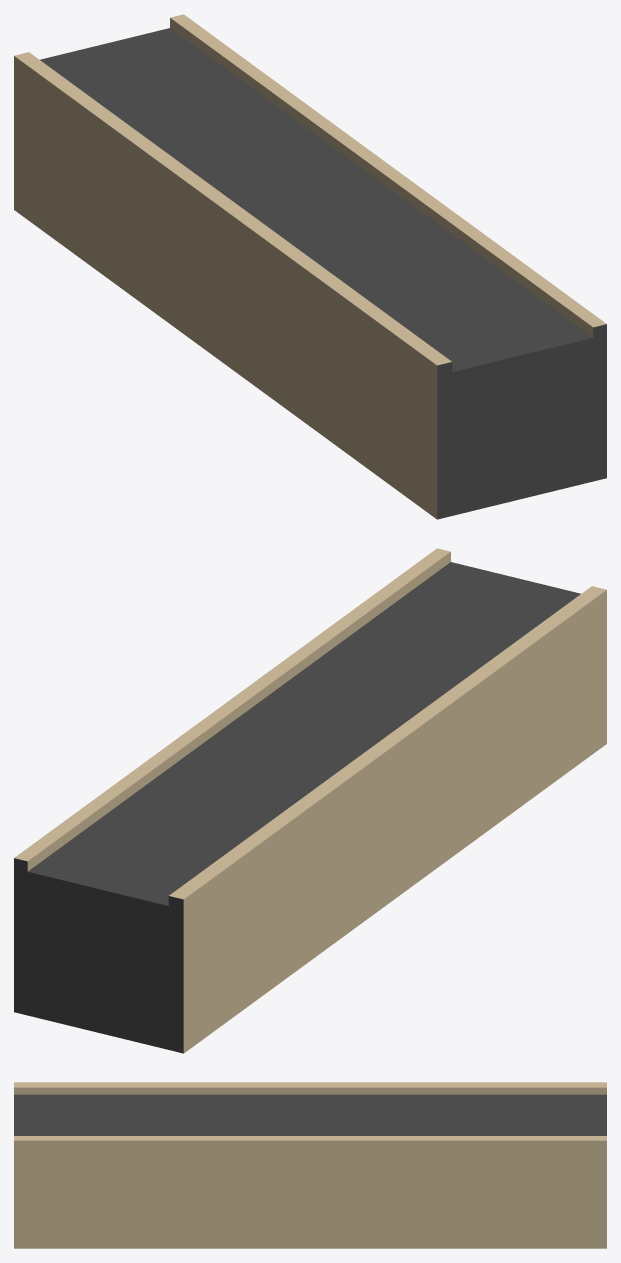
Rendered from EstradaLateralCentral.fbx.
3 renders of one model, top to bottom at view 1: azimuth 30°, elevation 25°; view 2: azimuth 150°, elevation 25°; view 3: azimuth 270°, elevation 25°, orthographic. The views are drawn at different scales.
Parts seen in each view (by area): view 1: Cube.018; view 2: Cube.018; view 3: Cube.018.
Boxes of the visible parts, x1=… form: Cube.018: x1=14, y1=14, x2=606, y2=519; Cube.018: x1=14, y1=548, x2=606, y2=1053; Cube.018: x1=14, y1=1082, x2=606, y2=1248.
Size of the model in its own units: 33.92 by 29.42 by 146.
